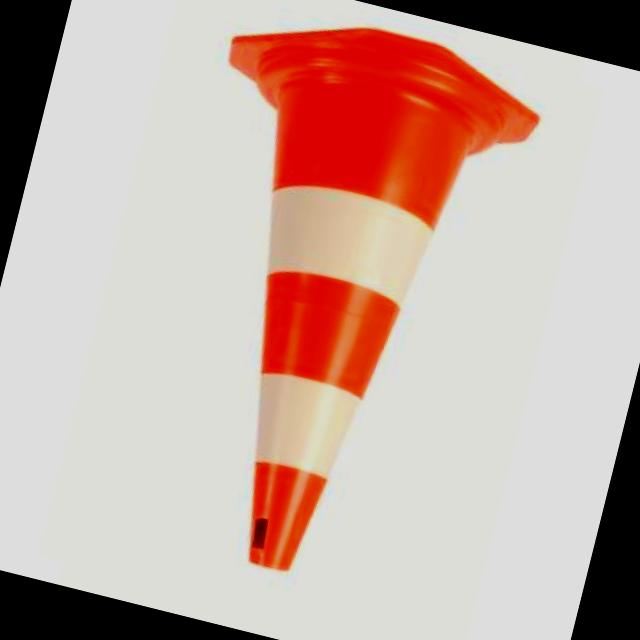cone: (129, 20, 509, 608)
